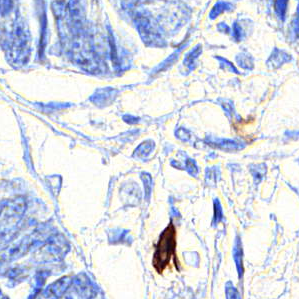Lymphocyte: (152, 219, 182, 277)
